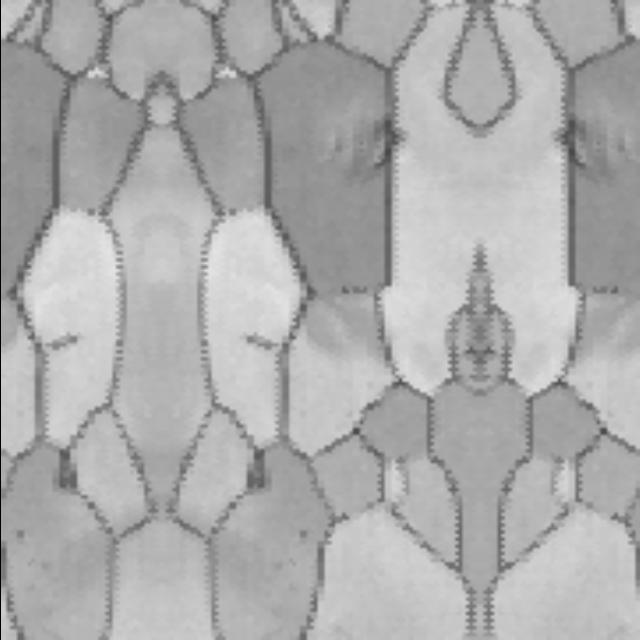good_void: (356, 99, 408, 174), (552, 99, 604, 174), (240, 332, 277, 355), (46, 332, 83, 355), (300, 523, 310, 539), (14, 523, 24, 539)
